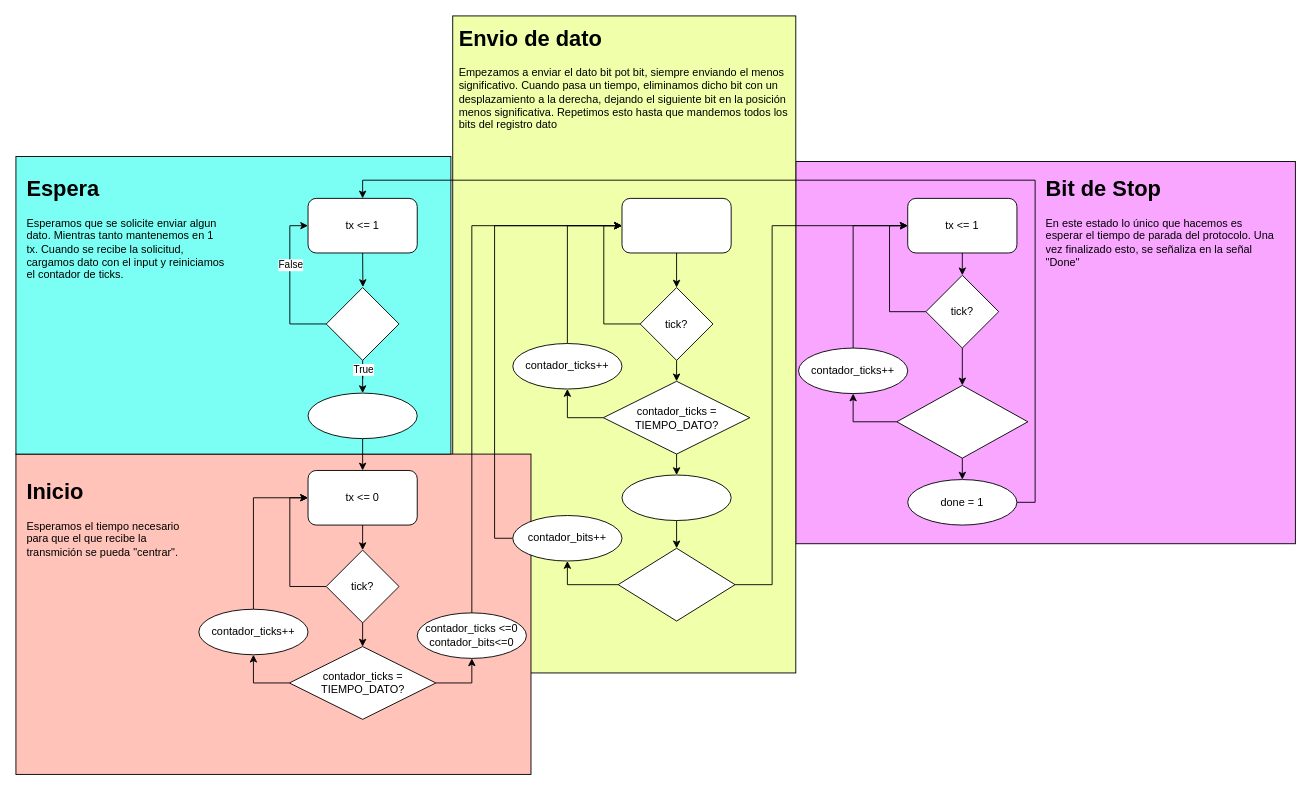
Image size: 1311x791. Some labels were removed from this diagram. Each missing label, with the centre of its shape:
"contador_bits = MAX_BITS?" goes at point 676,584.
"contador_ticks <= 0 dato <= input" goes at point 362,415.
"contador_ticks <=0 dato<=dato>>1" goes at point 676,497.
"contador_ticks = TIEMPO_STOP?" goes at point 962,421.
"start?" goes at point 362,323.
"tx<=dato[0]" goes at point 676,225.
